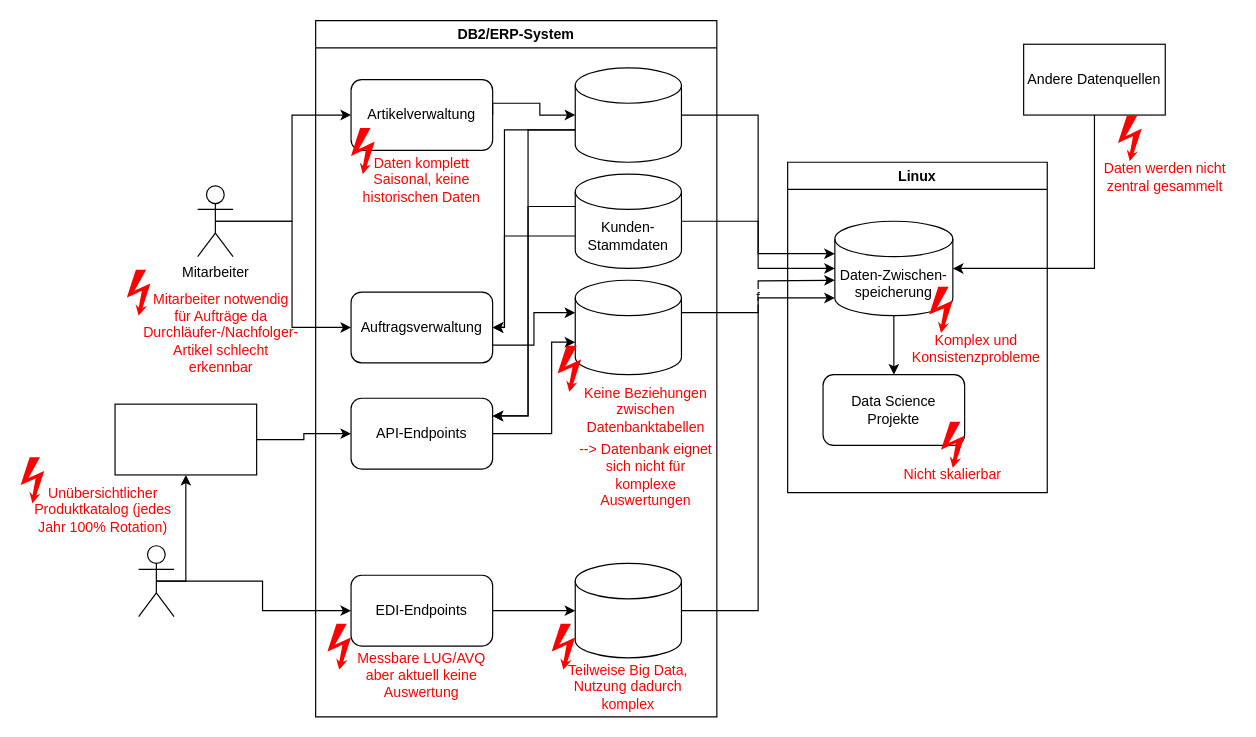
Some shapes in this 1256 by 737 pixel diagram are drawn without their labels. Here are the shapes that lost their labels. From the top down, the centre of each, then its label:
the point at 627,114: Artikel- stammdaten
the point at 627,327: Auftrags-Stammdaten
the point at 185,439: B2B-Shop
the point at 155,581: Kund:in
the point at 627,610: EDI-Daten
